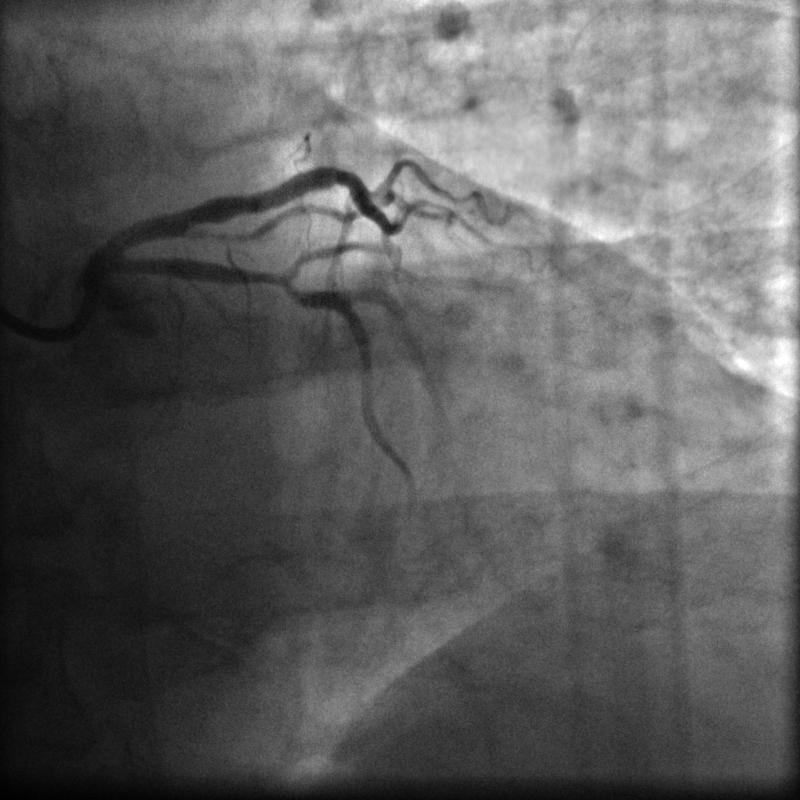Stenosis: (243, 263, 290, 290)
